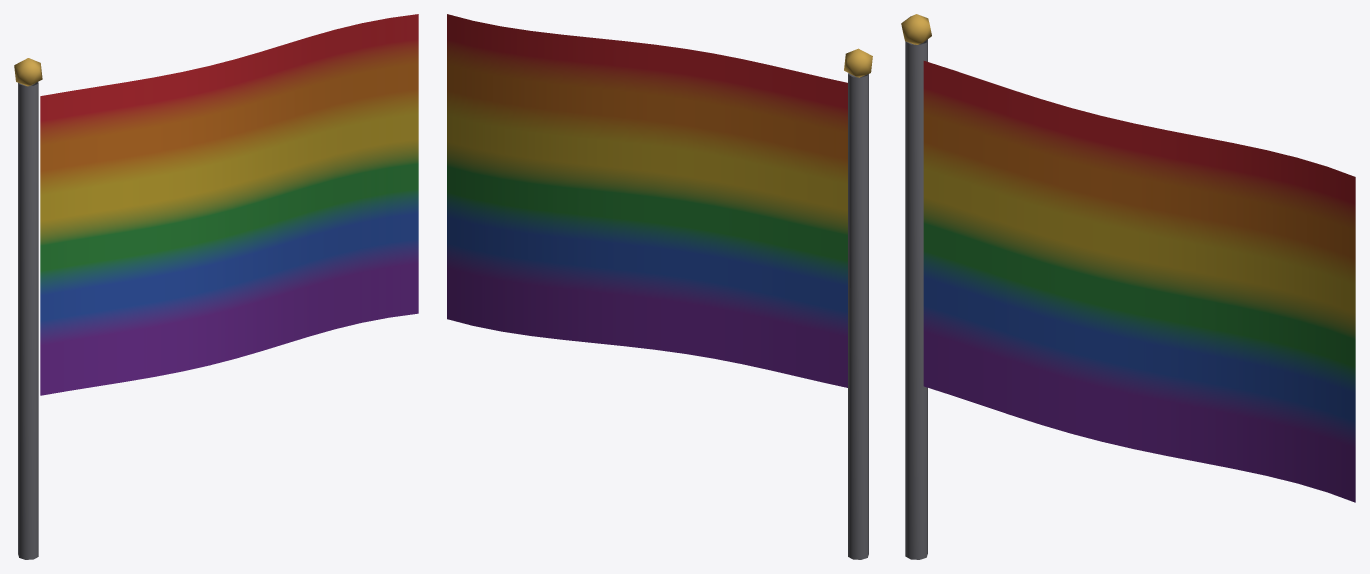
File: furn_pride_flag.glb
3 renders of one model, left to right at view 1: azimuth 30°, elevation 25°; view 2: azimuth 150°, elevation 25°; view 3: azimuth 330°, elevation 25°, orthographic. The views are drawn at different scales.
Parts seen in each view (by area): view 1: furn_pride_flag_main, furn_pride_flag_gloss; view 2: furn_pride_flag_main, furn_pride_flag_gloss; view 3: furn_pride_flag_main, furn_pride_flag_gloss.
Part boxes in pixels (bbox=[...]): furn_pride_flag_main: bbox=[18, 14, 418, 559]; furn_pride_flag_gloss: bbox=[14, 58, 42, 86]; furn_pride_flag_main: bbox=[447, 14, 868, 559]; furn_pride_flag_gloss: bbox=[844, 48, 872, 77]; furn_pride_flag_main: bbox=[905, 39, 1355, 559]; furn_pride_flag_gloss: bbox=[901, 14, 931, 44].
Size of the model in its own units: 0.8868 by 1.03 by 0.0583.
